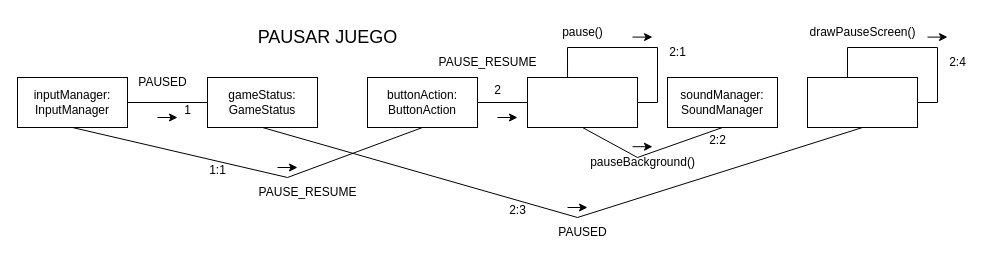
Image size: 995x264. Some labels were removed from this diagram. The shapes that lost their labels are listed below. From the top down, each one's centre as x and y in pixels, then its label:
the point at 582,102: gameEngine: GameEngine
the point at 862,102: uiManager: UIManager
